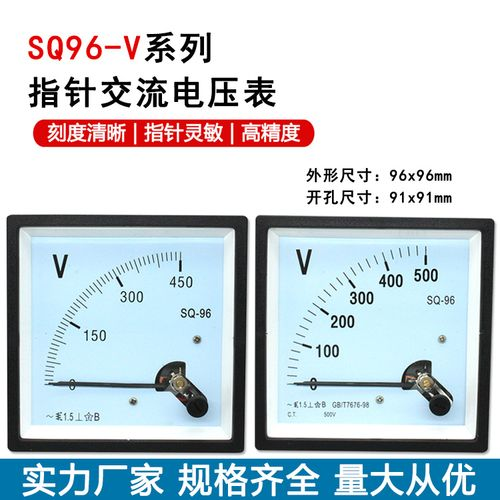pointer: (18, 225, 232, 441), (266, 224, 473, 440)
